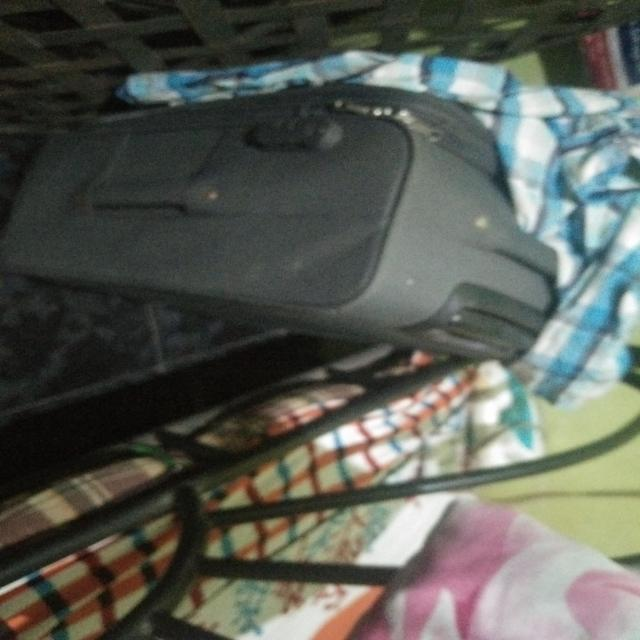luggage: (0, 76, 561, 366)
